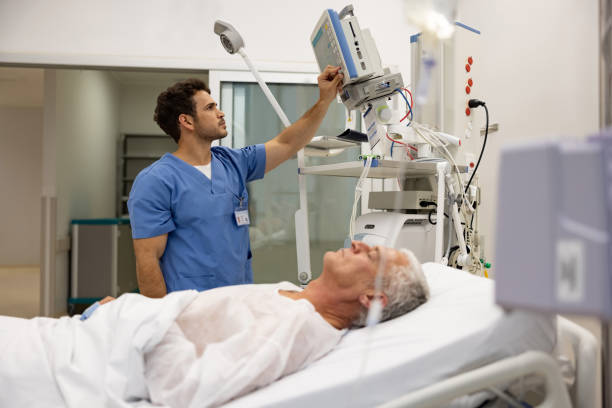bedrail: (375, 349, 572, 408)
bedside_monitor: (304, 17, 388, 84)
hospital_bed: (1, 260, 596, 408)
patient: (1, 233, 430, 408)
staff: (124, 66, 343, 297)
